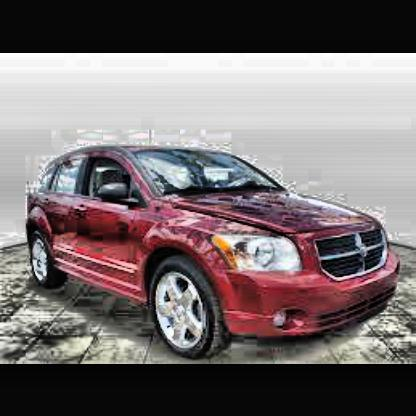Dodge Caliber Wagon 2007: (23, 138, 403, 364)
